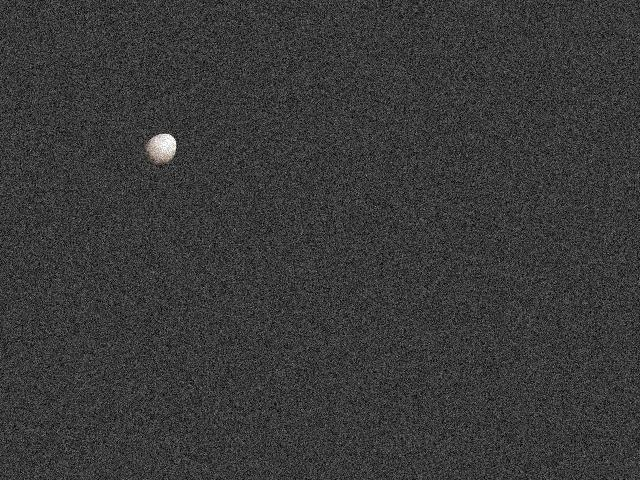egg: (143, 133, 176, 165)
